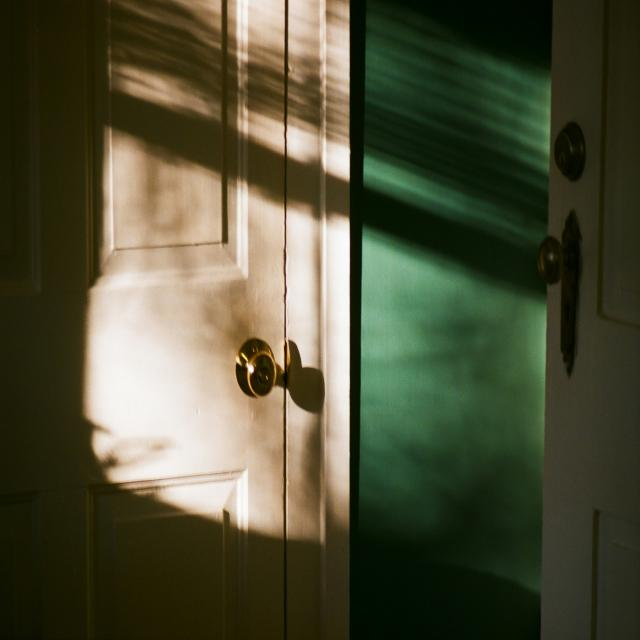door-knob: (235, 339, 277, 399)
